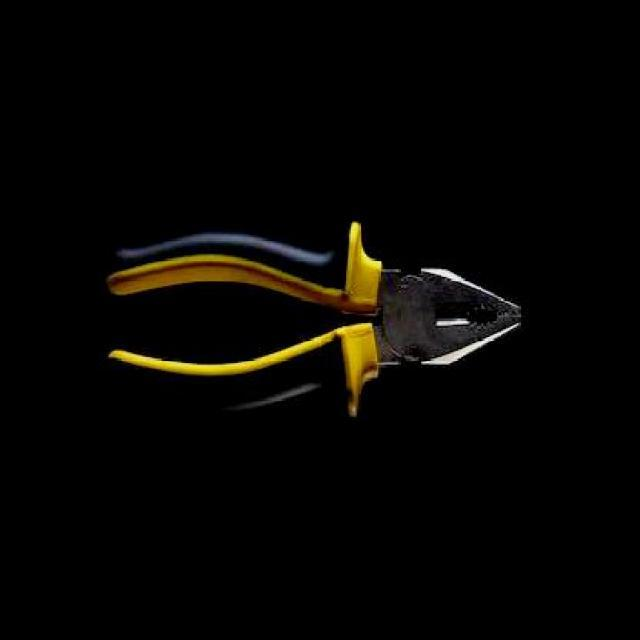pliers: (109, 212, 522, 434)
